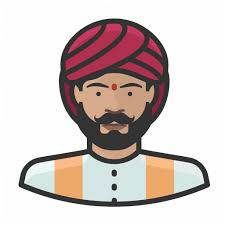Indian_Male: (79, 50, 152, 144)
